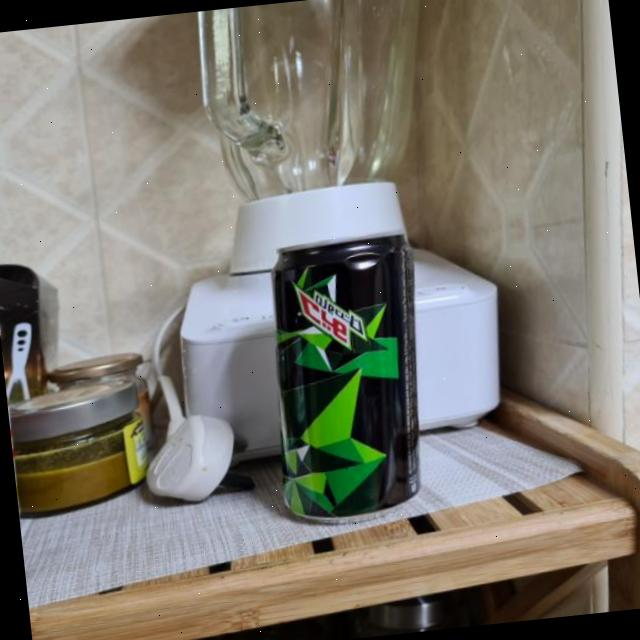trash: (249, 224, 442, 522)
